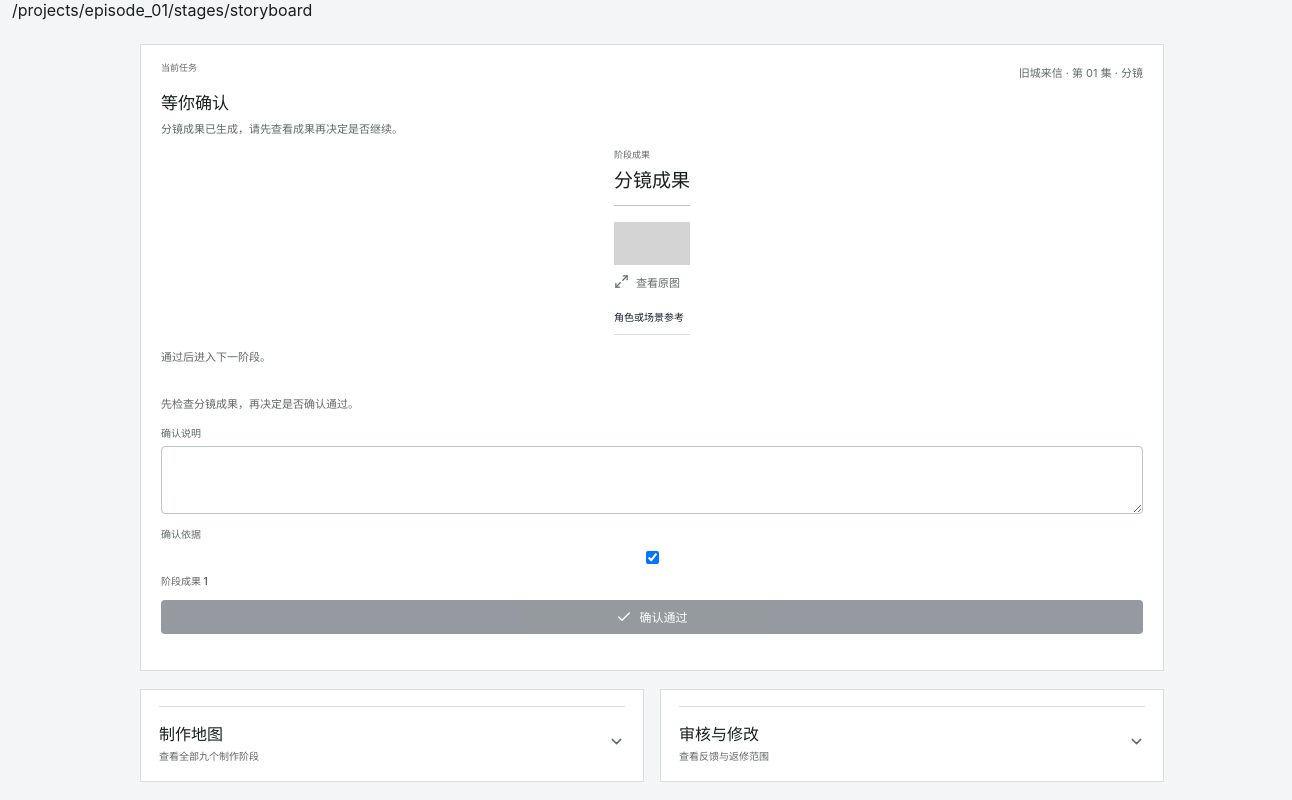
Test case: project review workspace › loads a deep-linked project and stage in parallel and shows both states
What coordinates should you click on to do the following:
click the button "审核与修改 查看反馈与返修范围"
I would click on:
 (719, 734)
Its box is left=679, top=706, right=1145, bottom=765.
(page scrolled)
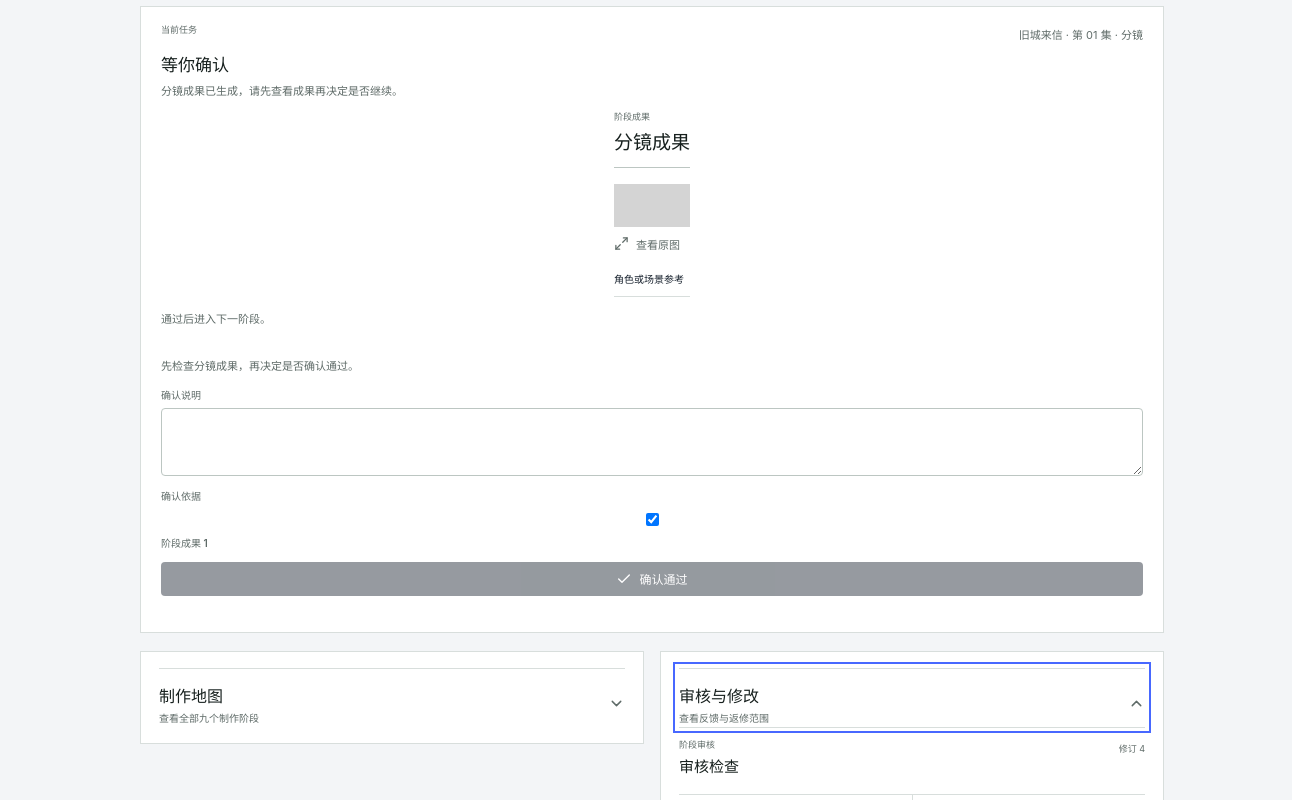
Expected: the text "修订 4" is shown, left=1119, top=742, right=1145, bottom=755
